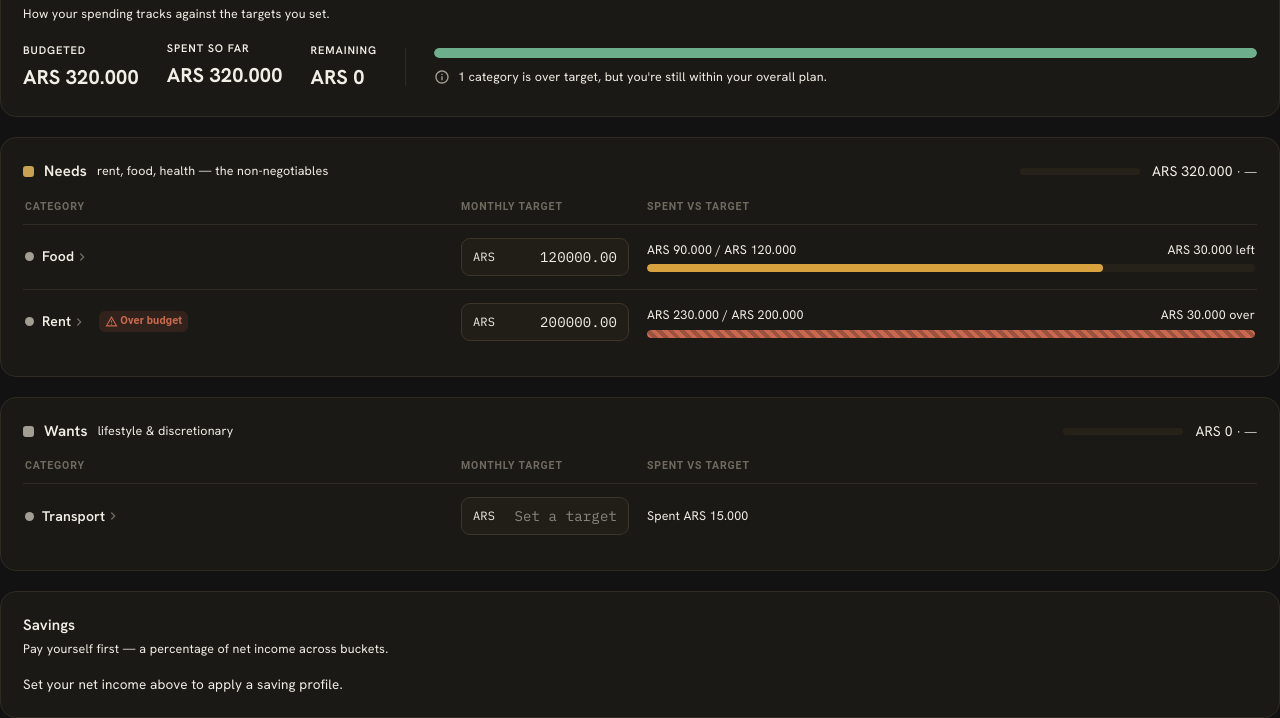
Test: BudgetsPage › a committed target flashes Saving… then Saved ✓
The image size is (1280, 718).
(page scrolled)
Type "50000" into the field named "Transport target" at {"x": 560, "y": 516}, box [503,506,617,526]
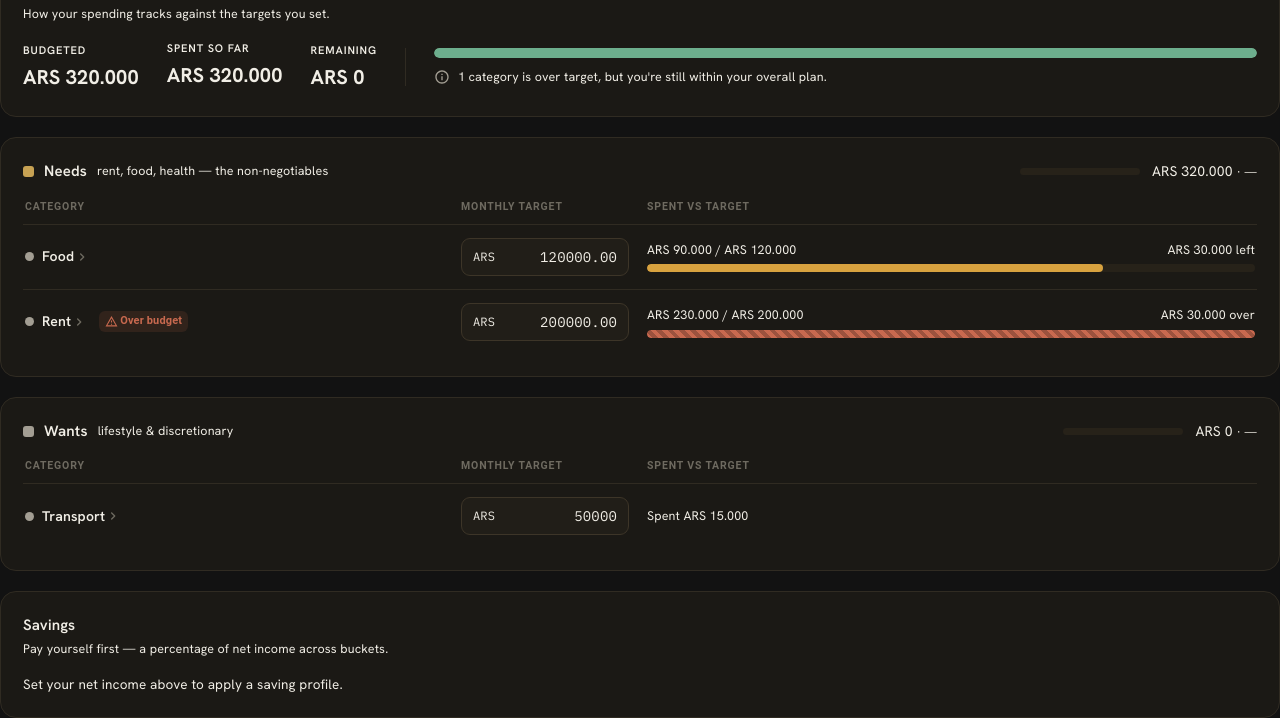
Press Tab
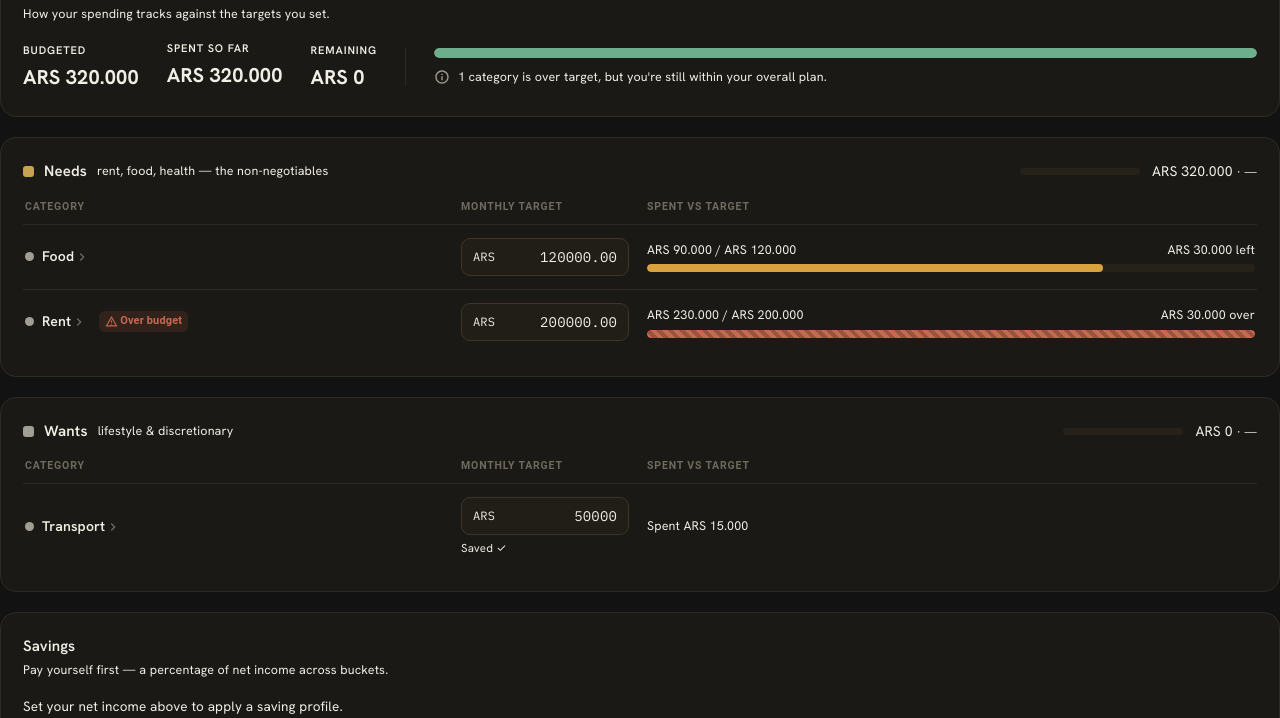
Expected: the text "Saved ✓" is shown, [461,540,506,555]
